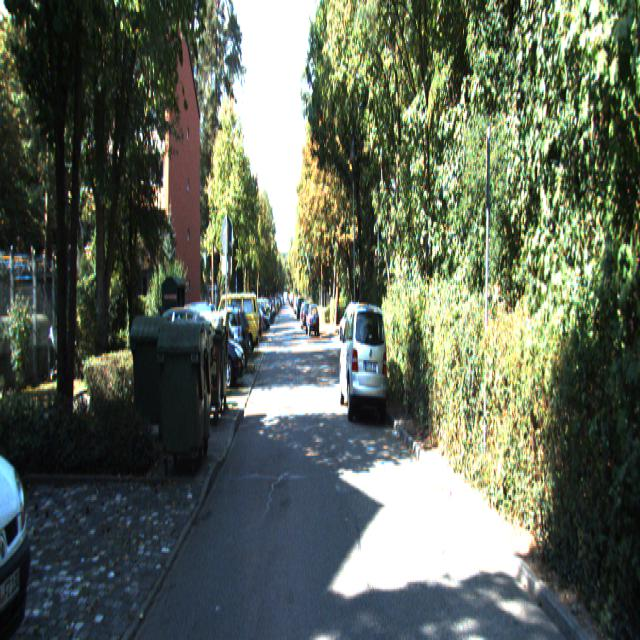Car: (338, 298, 389, 424), (215, 291, 260, 356), (306, 305, 320, 337)
